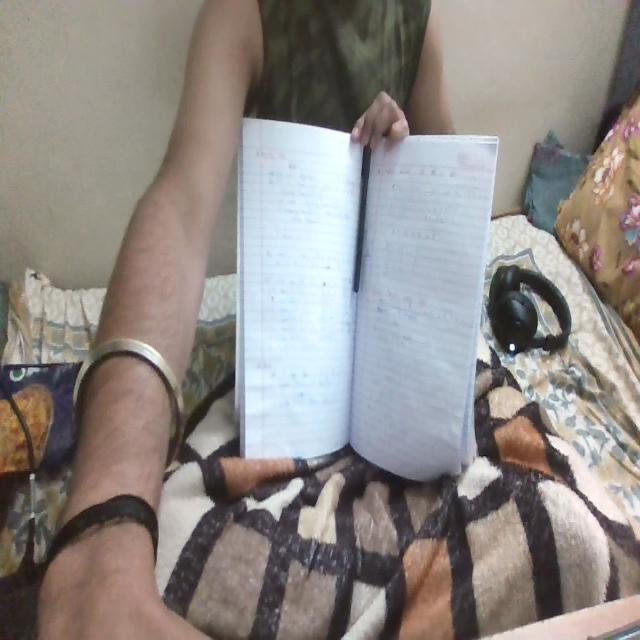book: (235, 117, 495, 481)
pen: (349, 138, 373, 308)
